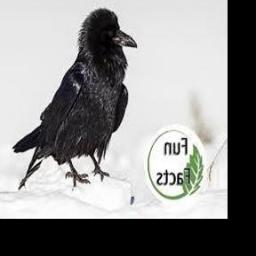Crow: (13, 8, 138, 190)
